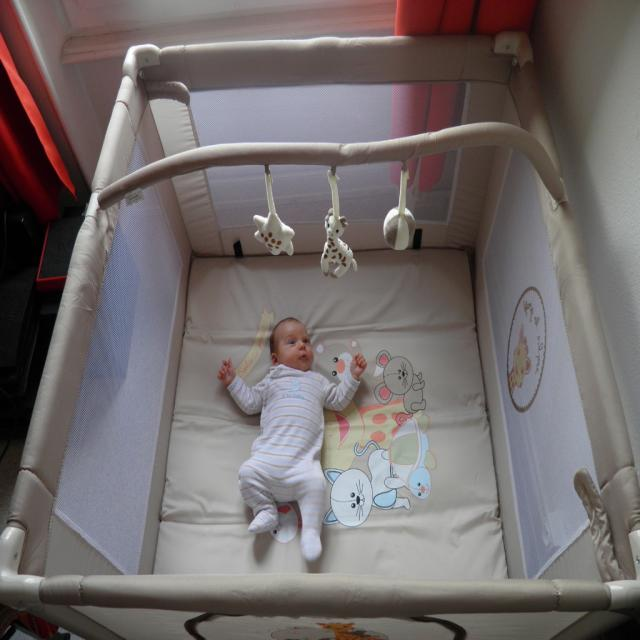Toy: (248, 162, 294, 256), (312, 207, 357, 281), (382, 168, 414, 251)
